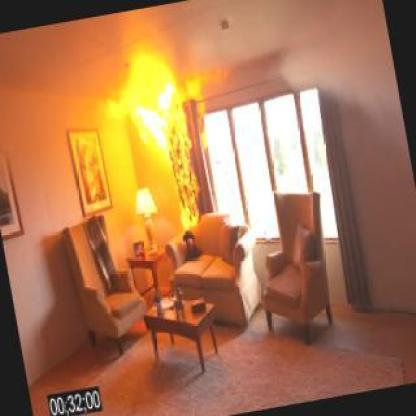Fire: (126, 64, 201, 238)
